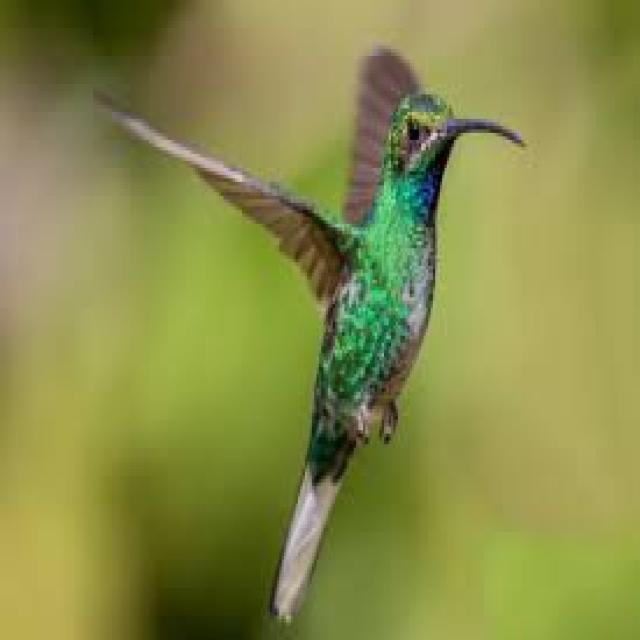Humming Bird: (100, 55, 529, 614)
